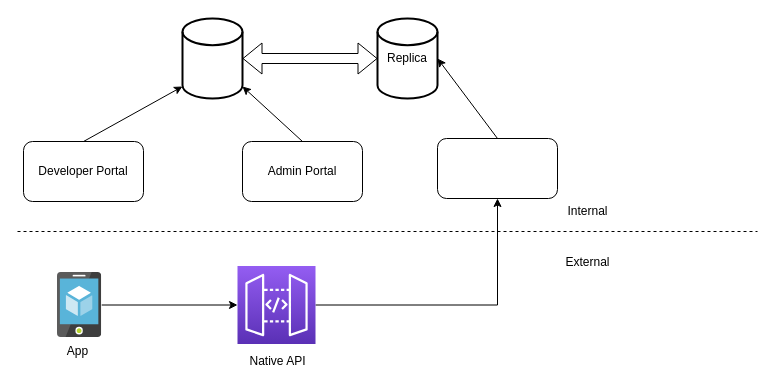
Image size: 776x388. Some labels were removed from this diagram. Here are the shapes that lost their labels. From the top down, the centre of each, then its label:
At (x=212, y=58): "DB".
At (x=497, y=168): "Golang Service".
